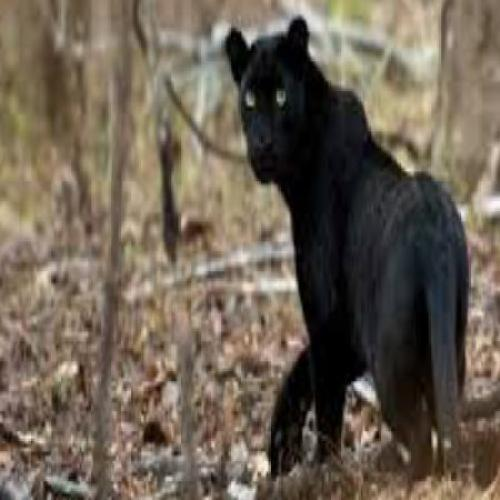panther-endangered: (222, 17, 474, 486)
